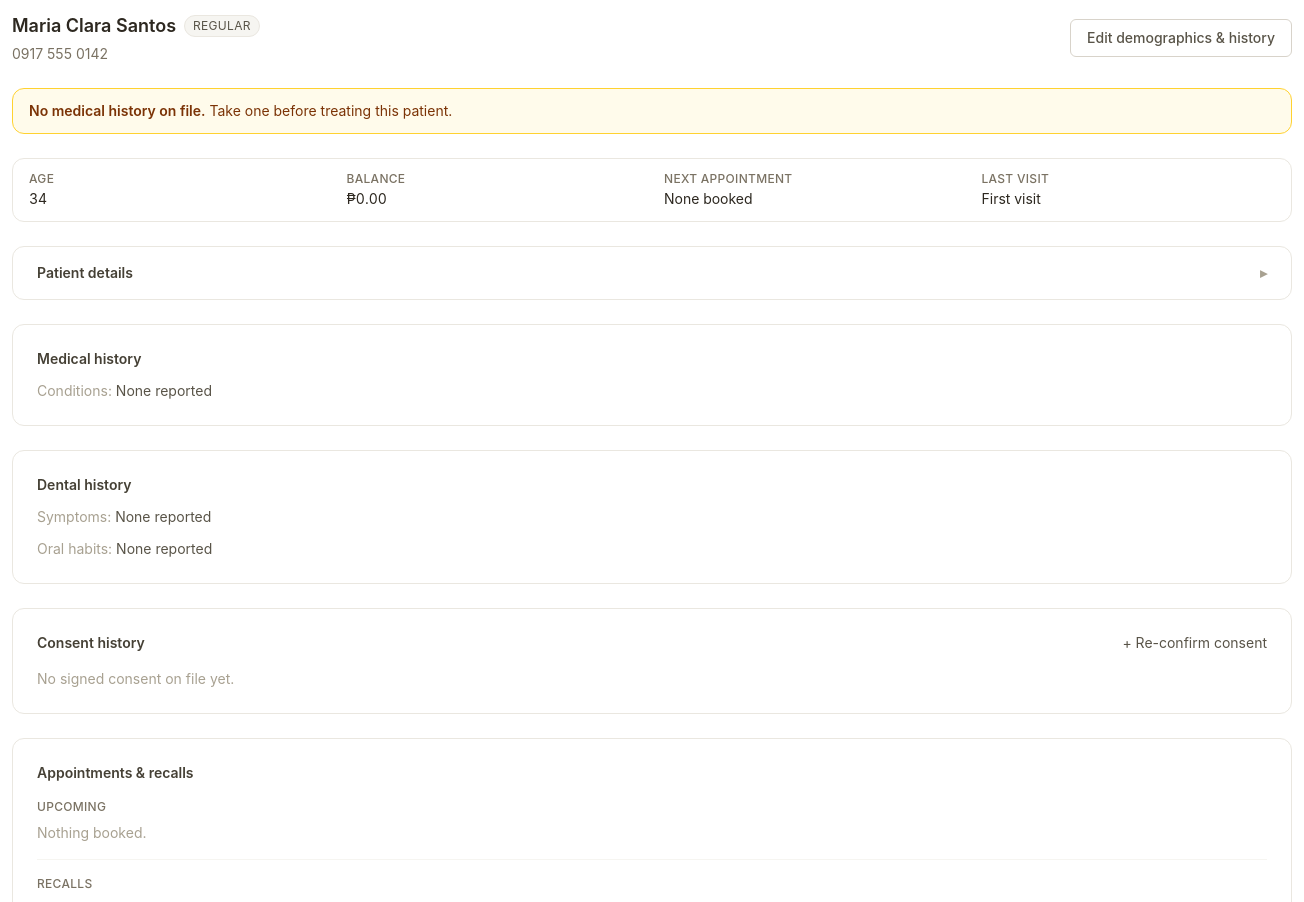
PatientProfilePage › folds the intake fields away, and opens them on request
Expected: the text "12 Mabini St" is not shown
Click the button "Patient details ▸" at coordinates (85, 272), box left=13, top=247, right=1291, bottom=299
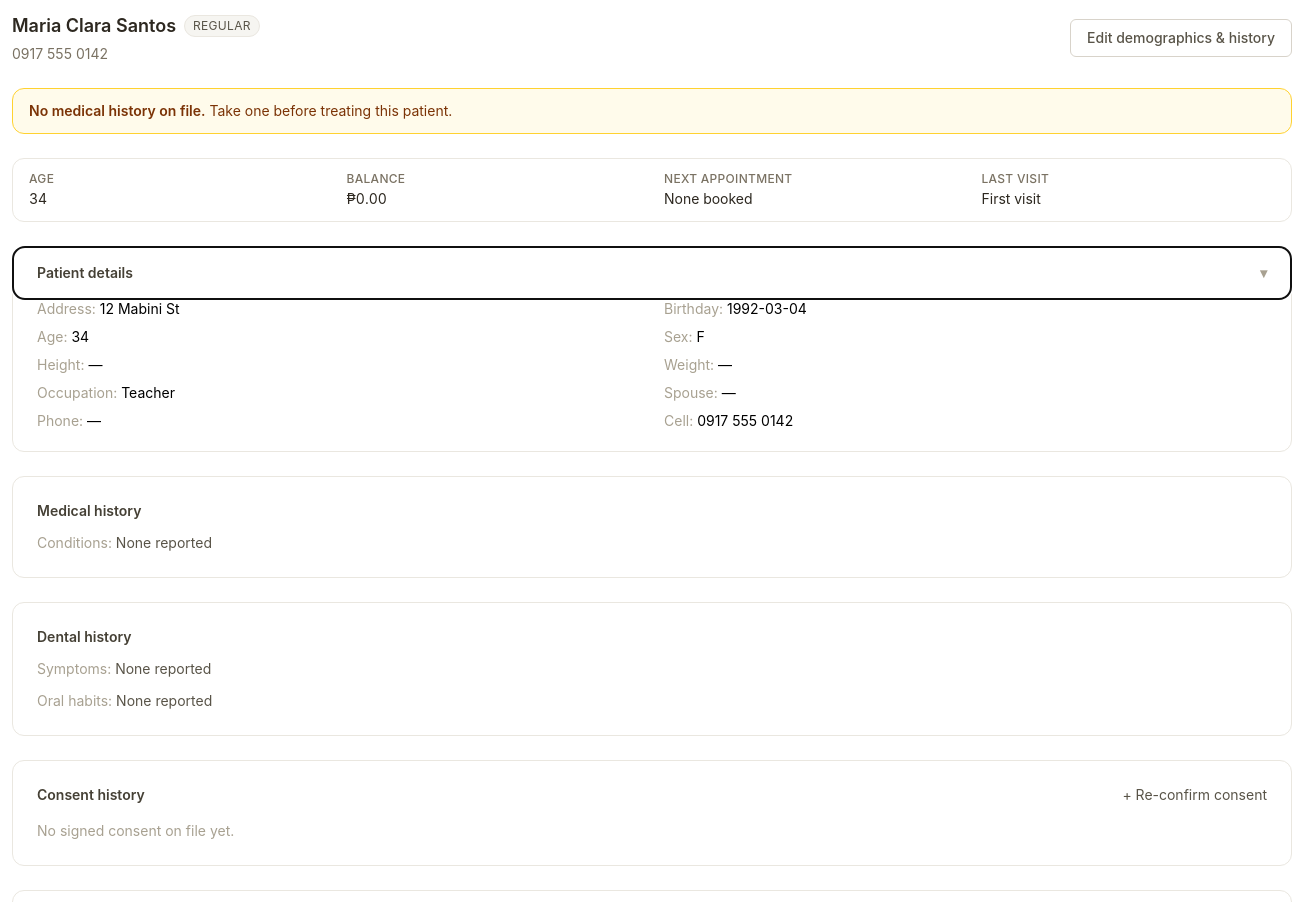
Now the button "Patient details ▾" is expanded, box left=13, top=247, right=1291, bottom=299
Now the text "Address: 12 Mabini St" is shown, box left=37, top=300, right=180, bottom=317
